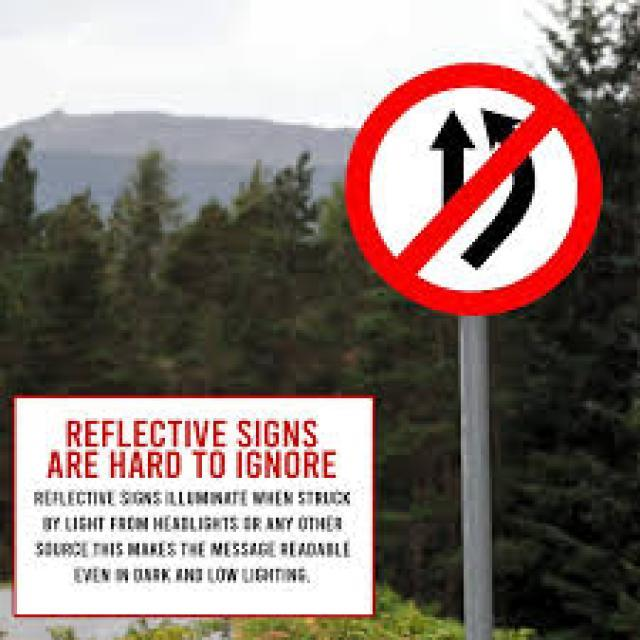overtaking prohibited: (330, 52, 620, 326)
